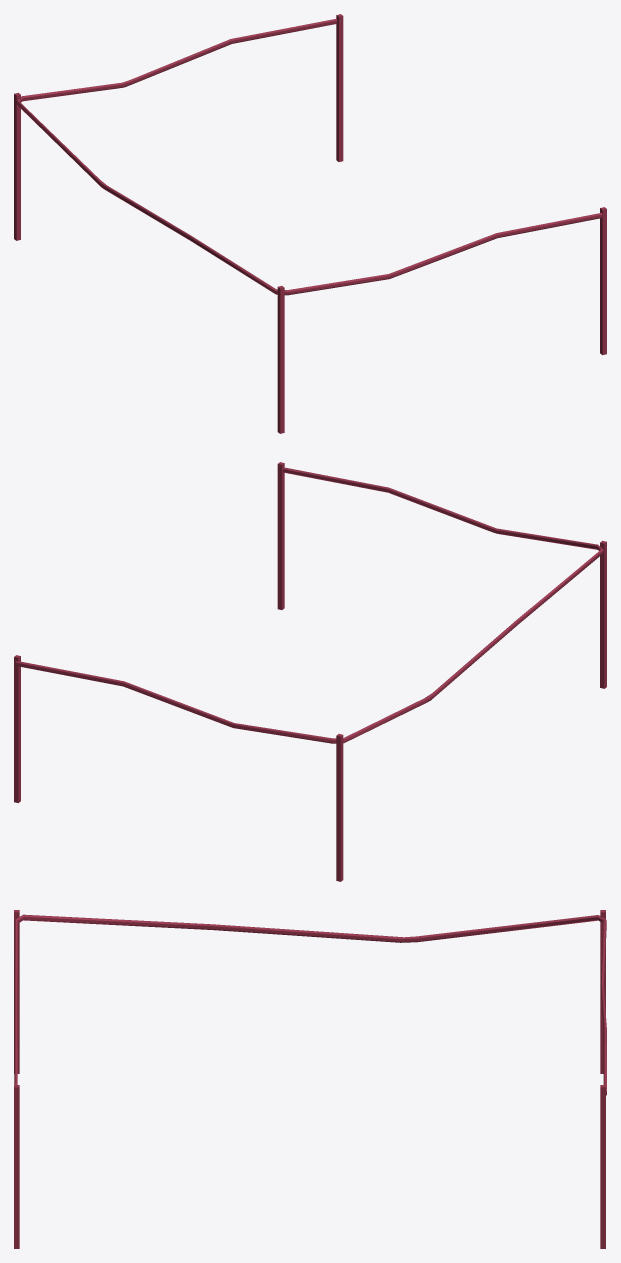
Rendered from ograda.fbx.
The picture shows the model from 3 angles, top to bottom: view 1: azimuth 30°, elevation 25°; view 2: azimuth 150°, elevation 25°; view 3: azimuth 270°, elevation 25°; orthographic projection. The views are drawn at different scales.
Visible parts, largest first — view 1: Plane.001; view 2: Plane.001; view 3: Plane.001.
Part boxes in pixels (x1=…): Plane.001: x1=14, y1=14, x2=606, y2=433; Plane.001: x1=14, y1=462, x2=606, y2=881; Plane.001: x1=14, y1=910, x2=606, y2=1248.
Bounding box in the file's own units: 271 × 116 × 382.
